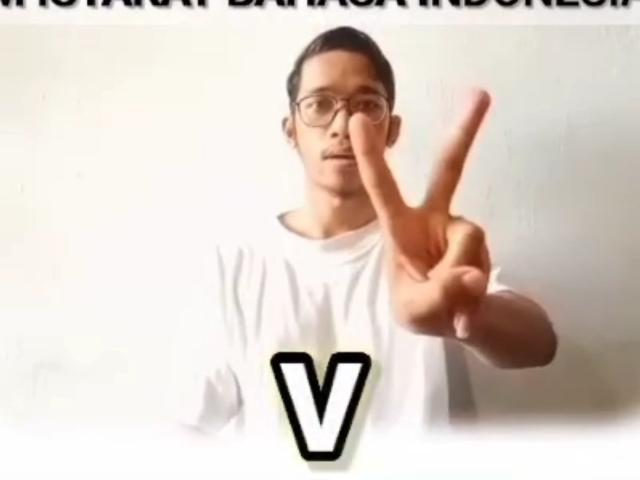V: (348, 82, 504, 346)
